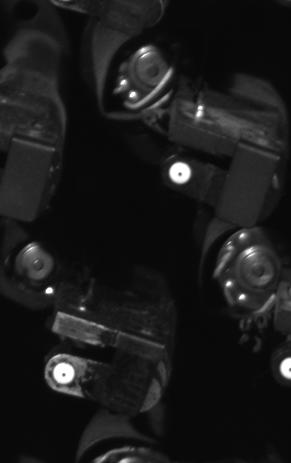fiber: (48, 361, 85, 390), (166, 158, 199, 188), (271, 352, 291, 383)
